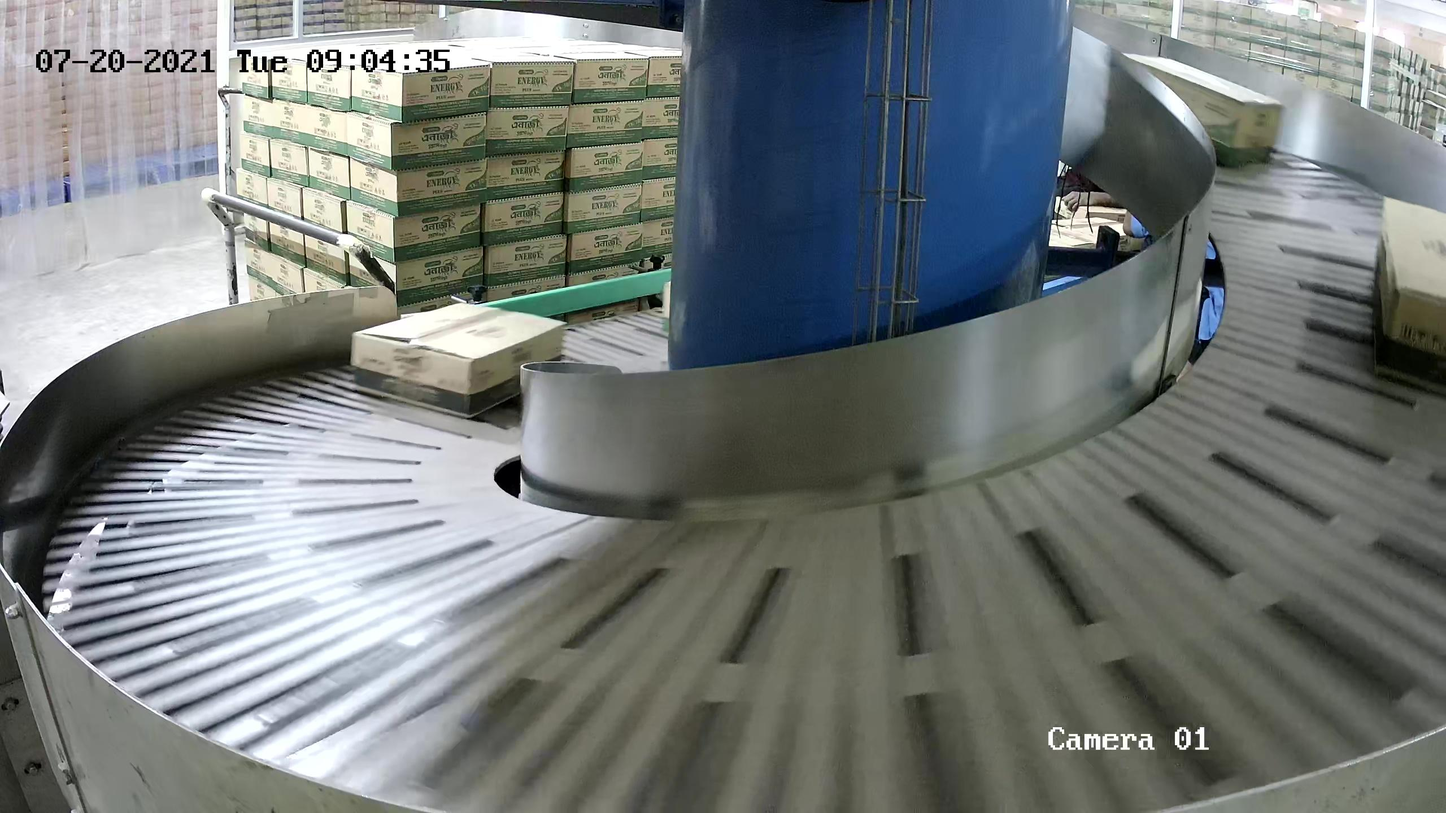Box: (350, 302, 566, 420), (1109, 51, 1283, 170), (1370, 194, 1446, 398)
